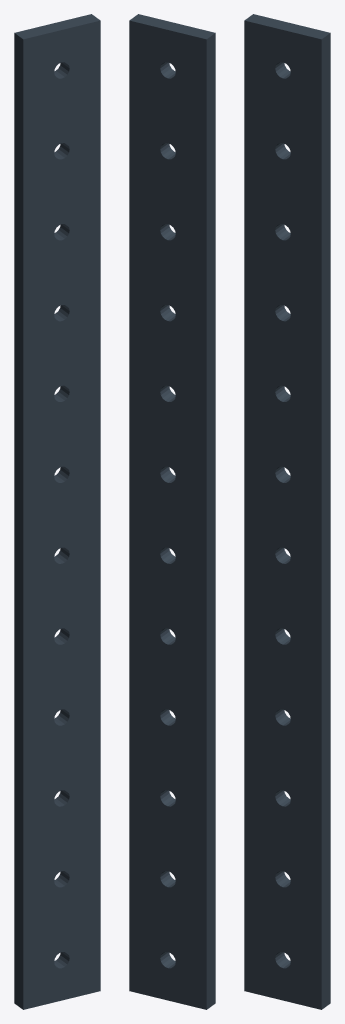
Rendered from kit_beam_240.obj.
3 renders of one model, left to right at view 1: azimuth 30°, elevation 25°; view 2: azimuth 150°, elevation 25°; view 3: azimuth 330°, elevation 25°, orthographic.
Parts seen in each view (by area): view 1: kit_beam_240; view 2: kit_beam_240; view 3: kit_beam_240.
Boxes of the visible parts, x1=… form: kit_beam_240: x1=14, y1=14, x2=100, y2=1009; kit_beam_240: x1=129, y1=14, x2=215, y2=1009; kit_beam_240: x1=244, y1=14, x2=330, y2=1009.
Size of the model in its own units: 0.02 by 0.24 by 0.004.
